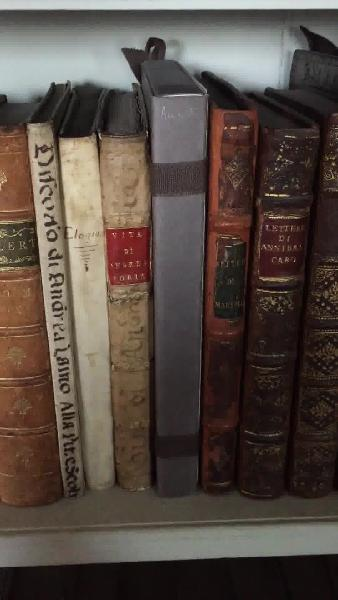Aa6-24: (23, 118, 90, 505)
Aa6-25: (54, 123, 122, 495)
Aa6-26: (99, 124, 168, 505)
Aa6-27: (138, 74, 201, 502)
Aa6-28: (193, 95, 256, 495)
Aa6-29: (232, 115, 314, 497)
